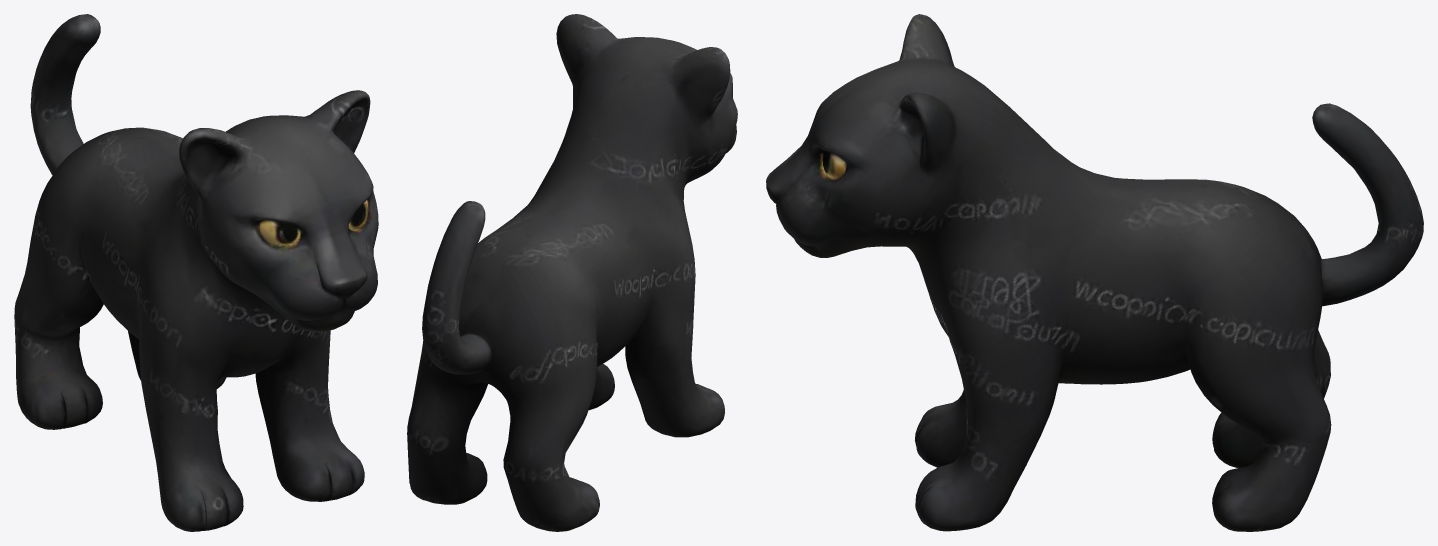
Rendered from panther_pbr.glb.
3 renders of one model, left to right at view 1: azimuth 30°, elevation 25°; view 2: azimuth 150°, elevation 25°; view 3: azimuth 270°, elevation 25°, orthographic. The views are drawn at different scales.
Parts seen in each view (by area): view 1: model; view 2: model; view 3: model.
Boxes of the visible parts, x1,y1,x2,y2 form: model: [14, 14, 378, 531]; model: [407, 14, 737, 531]; model: [766, 14, 1423, 531].
Bounding box in the file's own units: 0.662 × 1.34 × 1.85.
Materials: 1 (1 with a texture image).
